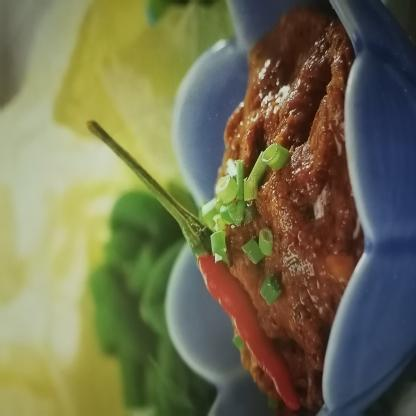Namprig: (185, 5, 366, 415)
